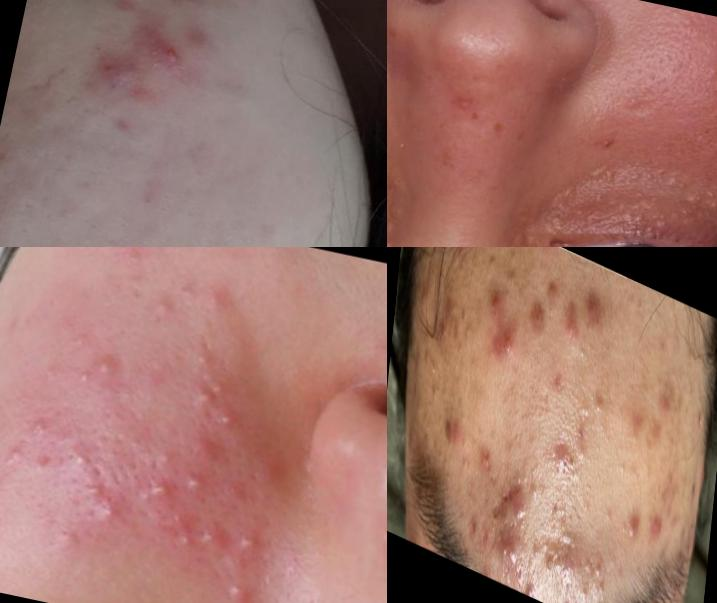blackhead: (543, 541, 558, 583)
milium: (689, 43, 717, 91), (698, 180, 717, 215)
papular: (88, 41, 159, 104), (132, 21, 196, 83), (72, 466, 119, 510), (639, 496, 665, 564), (45, 518, 85, 562), (492, 318, 525, 371), (147, 436, 187, 477), (89, 346, 122, 385), (193, 433, 228, 469), (249, 453, 283, 490), (200, 279, 232, 317), (561, 299, 578, 353), (624, 491, 639, 549)
purulent: (192, 369, 231, 416), (191, 513, 229, 554), (142, 472, 177, 511), (231, 521, 264, 560), (217, 567, 252, 603), (178, 465, 213, 498), (93, 496, 127, 528), (208, 402, 238, 436), (168, 527, 200, 556)
sebo-crystan-conglo: (491, 525, 530, 583), (499, 470, 534, 528)
syringoma: (527, 175, 717, 248), (573, 158, 665, 208), (388, 187, 418, 248)
whitehead: (64, 323, 99, 361), (214, 472, 250, 508), (64, 441, 97, 480), (65, 361, 102, 395), (150, 291, 181, 331), (358, 514, 388, 554), (114, 248, 151, 278), (581, 541, 606, 583), (506, 248, 526, 295), (26, 408, 57, 438), (1, 438, 24, 467), (448, 290, 462, 321), (464, 318, 478, 345), (597, 574, 609, 602), (576, 580, 590, 603), (594, 397, 608, 420), (616, 450, 626, 480)
